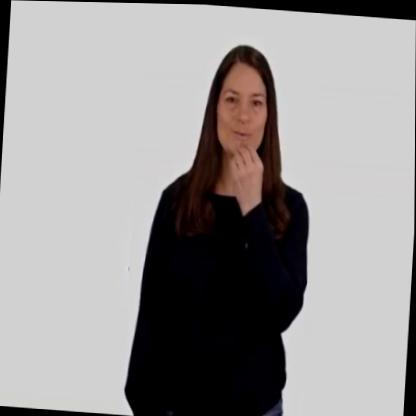Food: (121, 24, 321, 416)
